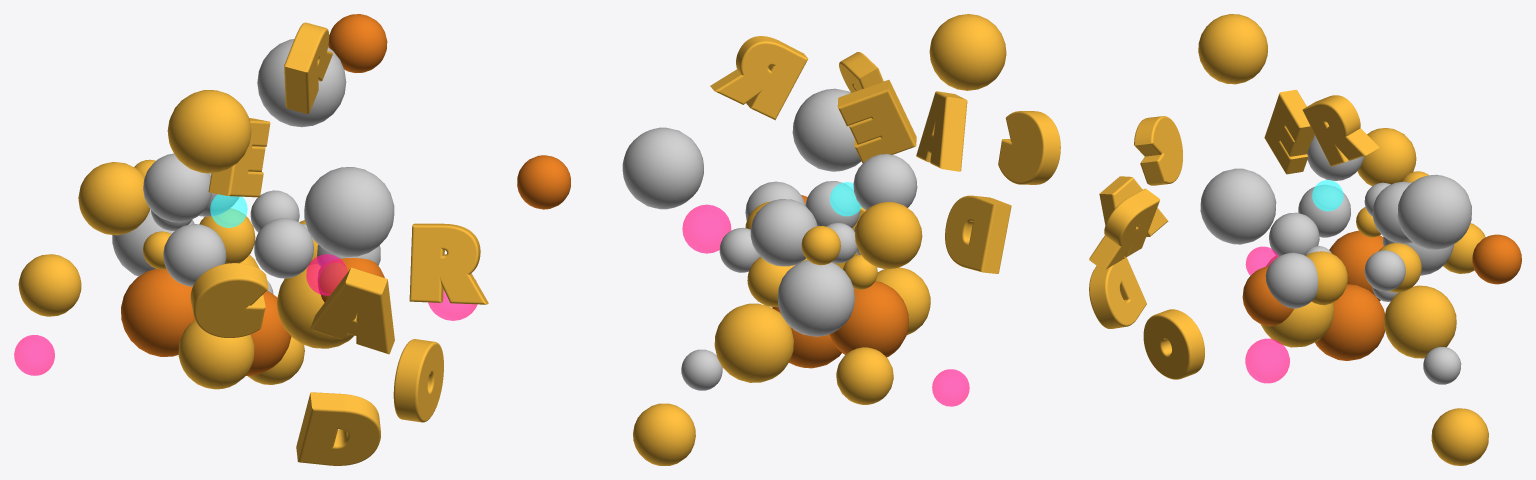
File: GERARDO_.fbx
The picture shows the model from 3 angles, left to right: view 1: azimuth 30°, elevation 25°; view 2: azimuth 150°, elevation 25°; view 3: azimuth 270°, elevation 25°; orthographic projection. The views are drawn at different scales.
Parts seen in each view (by area): view 1: 球体_4_25, 球体_3_2, 球体_22, Cap_1_5, 球体_4, 球体_2_3, 球体_1_24, 球体_10, Cap_2_2, 球体_4_1, Cap_1_7, 球体_2_27 (+32 smaller); view 2: 球体_2_3, 球体_3_20, 球体_23, 球体_3_2, 球体_4_25, 球体_22, 球体_4, 球体_2_21, Cap_2_3, 球体_1_0, 球体_10, Cap_2_6 (+27 smaller); view 3: 球体_4_25, 球体_2_3, 球体_3_20, 球体_3_2, 球体_17, 球体_1_0, 球体_4, 球体_2_9, 球体_2_27, 球体_28, 球体_29, Cap_1 (+33 smaller).
Boxes of the visible parts, x1,y1,x2,y2 form: 球体_4_25: (304,167,394,256); 球体_3_2: (167,90,251,173); 球体_22: (121,268,194,356); Cap_1_5: (412,228,481,302); 球体_4: (78,162,150,235); 球体_2_3: (257,39,346,127); 球体_1_24: (178,320,254,389); 球体_10: (143,153,211,222); Cap_2_2: (301,411,378,465); 球体_4_1: (18,254,81,316); Cap_1_7: (196,280,265,337); 球体_2_27: (277,264,354,348); 球体_2_3: (622,127,703,209); 球体_3_20: (714,303,793,382); 球体_23: (777,259,854,336); 球体_3_2: (929,14,1006,90); 球体_4_25: (792,88,861,171); 球体_22: (829,281,908,357); 球体_4: (855,202,922,268); 球体_2_21: (750,199,817,266); Cap_2_3: (720,44,805,117); 球体_1_0: (633,403,695,465); 球体_10: (853,154,917,210); Cap_2_6: (841,92,912,161); 球体_4_25: (1200,168,1276,244); 球体_2_3: (1397,174,1471,249); 球体_3_20: (1384,285,1456,358); 球体_3_2: (1198,14,1267,84); 球体_17: (1315,284,1384,360); 球体_1_0: (1431,408,1488,465); 球体_4: (1357,128,1416,185); 球体_2_9: (1265,252,1317,308); 球体_2_27: (1260,301,1334,347); 球体_28: (1298,185,1350,237); 球体_29: (1472,234,1521,284); Cap_1: (1144,317,1188,377).
Bounding box in the file's own units: 961 × 935 × 1003.
